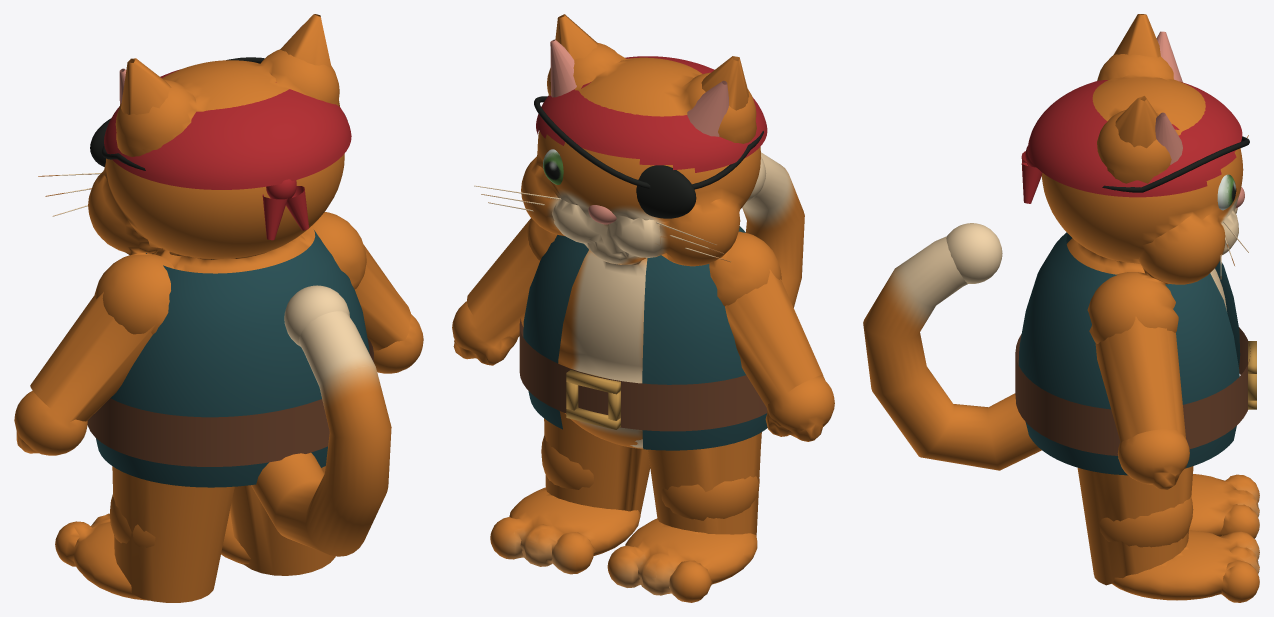
3 views of the same model, side by side, from view 1: azimuth 30°, elevation 25°; view 2: azimuth 150°, elevation 25°; view 3: azimuth 270°, elevation 25° (orthographic). The views are drawn at different scales.
Size of the model in its own units: 0.92 by 1.2 by 0.8572.
1 material, 1 textured.
